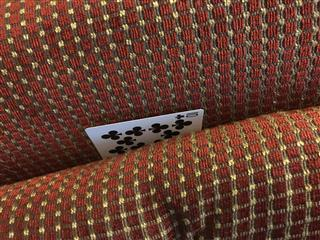TenOfClubs: (82, 106, 205, 160)
